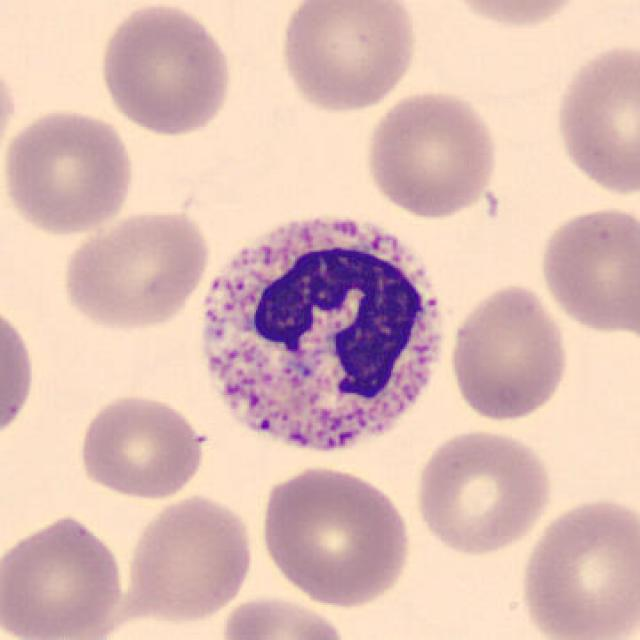Neutrophil: (187, 199, 462, 474)
RBC: (254, 462, 416, 608), (57, 205, 213, 333), (95, 0, 236, 138), (411, 425, 556, 559), (361, 86, 501, 220), (0, 104, 139, 238), (444, 280, 572, 425), (119, 492, 256, 626), (516, 492, 638, 640), (275, 0, 421, 116), (0, 509, 128, 640), (73, 390, 210, 502), (550, 39, 638, 199), (535, 201, 638, 337), (217, 592, 352, 640), (0, 296, 39, 448), (441, 0, 590, 32), (0, 51, 20, 175)
